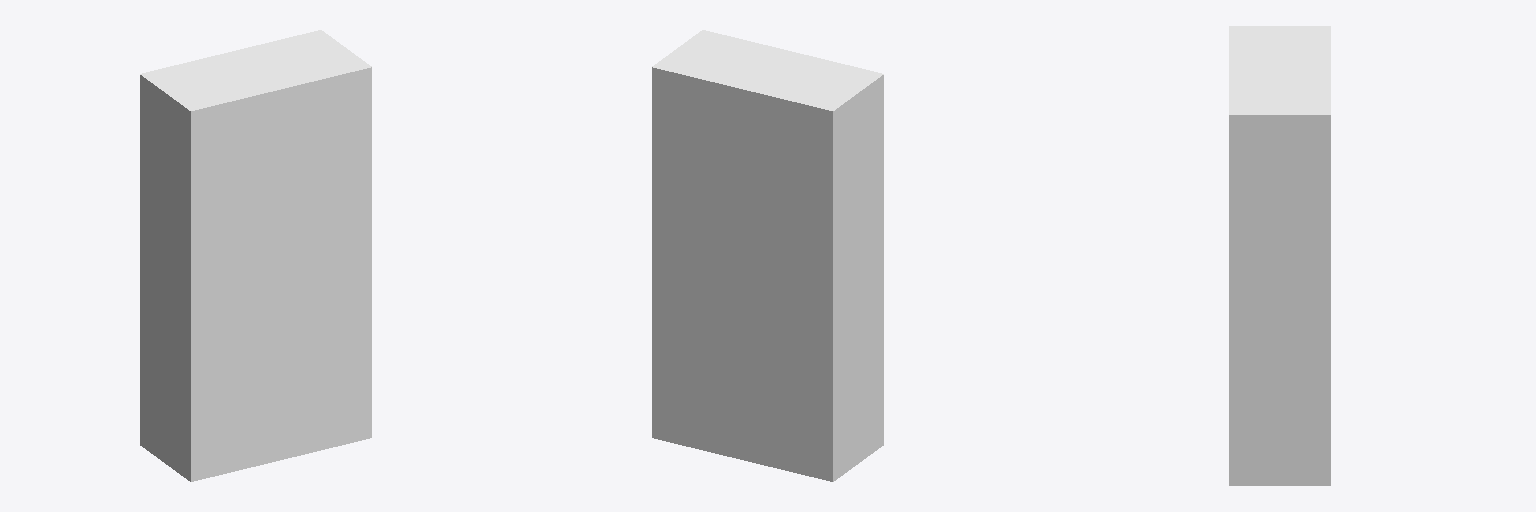
Rendered from Armory.obj.
3 renders of one model, left to right at view 1: azimuth 30°, elevation 25°; view 2: azimuth 150°, elevation 25°; view 3: azimuth 270°, elevation 25°, orthographic.
Visible parts, largest first — view 1: object 1; view 2: object 1; view 3: object 1.
Part boxes in pixels (bbox=[...]): object 1: bbox=[140, 30, 371, 481]; object 1: bbox=[652, 30, 883, 481]; object 1: bbox=[1229, 26, 1330, 485].
Size of the model in its own units: 4.1 by 8 by 2.